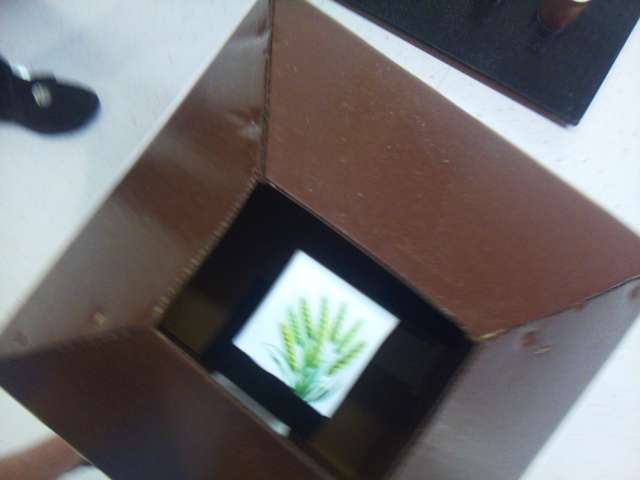wheat_barn: (232, 252, 398, 419)
